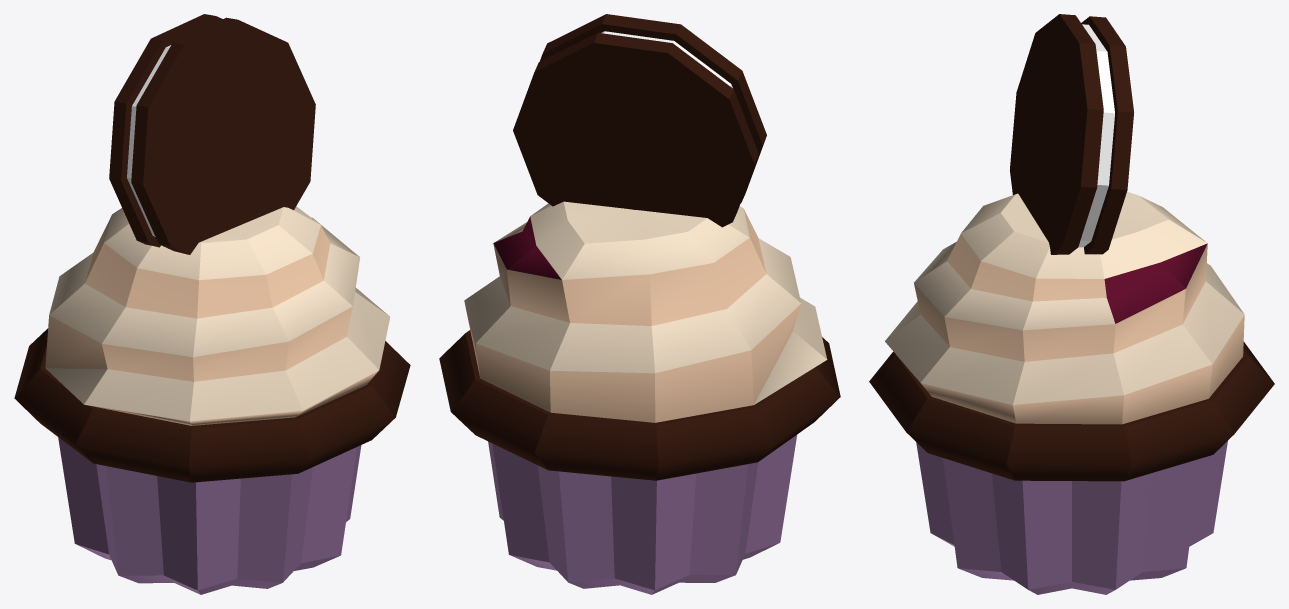
Rendered from PW_cupcake_oreo.fbx.
3 renders of one model, left to right at view 1: azimuth 30°, elevation 25°; view 2: azimuth 150°, elevation 25°; view 3: azimuth 270°, elevation 25°, orthographic.
Visible parts, largest first — view 1: cupcake_oreo; view 2: cupcake_oreo; view 3: cupcake_oreo.
Boxes of the visible parts, box(x1,y1,x2,y2) form: cupcake_oreo: box(14, 14, 410, 594); cupcake_oreo: box(439, 14, 840, 594); cupcake_oreo: box(869, 14, 1274, 594).
Size of the model in its own units: 20.01 by 29.7 by 20.95.
1 material, 1 textured.
